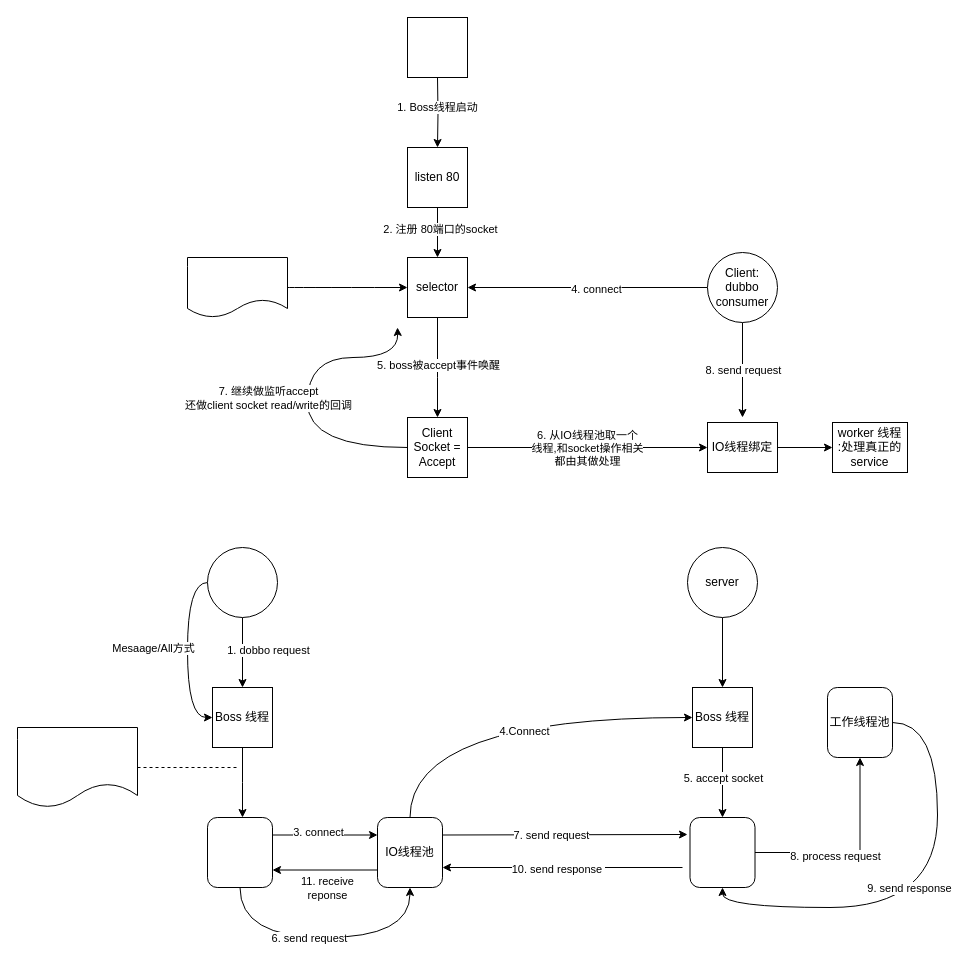
The diagram is 968 pixels wide and 962 high, and some of its shapes have lost their labels. Each missing label, with the centre of its shape:
"2. 封装request 对象, 提交client线程池Future, 调用future.get() 等待" belongs at (77,767).
"3. boss 阻塞在selector" belongs at (237,287).
"client" belongs at (242,582).
"IO线程" belongs at (722,852).
"启动" belongs at (437,47).
"工作&client线程池" belongs at (239,852).
